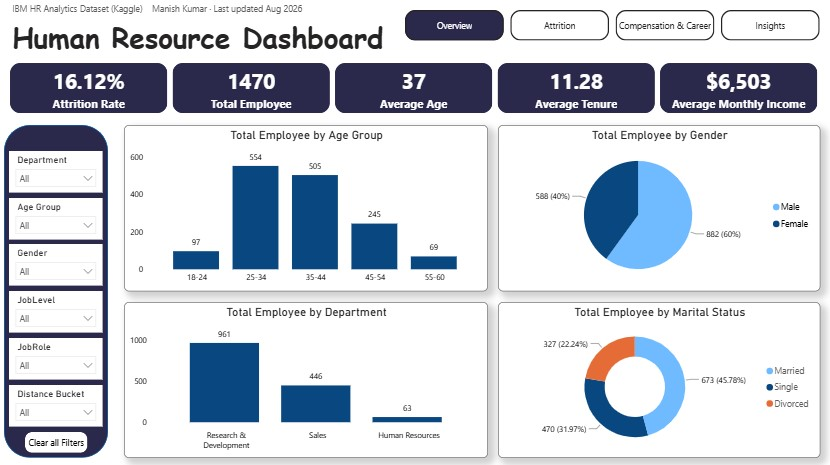

What the dashboard file says about the page in this screenshot:
{"tool":"powerbi","page":{"name":"Overview","canvas":[1280,720],"ordinal":0},"visuals":[{"type":"textbox","box":[16,0,592,96],"z":0},{"type":"cardVisual","fields":{"Data":["HR_Analytics.Attrition Rate","HR_Analytics.Total Employee","Avg(HR_Analytics.Age)","Avg(HR_Analytics.TotalWorkingYears)","Avg(HR_Analytics.MonthlyIncome)"]},"box":[0,80,1280,112],"z":1000},{"type":"clusteredColumnChart","fields":{"Category":["HR_Analytics.Age Group"],"Y":["HR_Analytics.Total Employee"]},"box":[192,192,560,256],"z":2000},{"type":"clusteredColumnChart","fields":{"Category":["HR_Analytics.Department"],"Y":["HR_Analytics.Total Employee"]},"box":[192,464,560,240],"z":3000},{"type":"pieChart","fields":{"Category":["HR_Analytics.Gender"],"Y":["HR_Analytics.Total Employee"]},"box":[768,192,496,256],"z":4000},{"type":"donutChart","fields":{"Category":["HR_Analytics.MaritalStatus"],"Y":["HR_Analytics.Total Employee"]},"box":[768,464,496,240],"z":5000},{"type":"shape","box":[8,192,160,512],"z":6000},{"type":"slicer","fields":{"Values":["HR_Analytics.Department"]},"box":[16,232,144,64],"z":7000},{"type":"slicer","fields":{"Values":["HR_Analytics.Age Group"]},"box":[16,304,144,64],"z":8000},{"type":"slicer","fields":{"Values":["HR_Analytics.Gender"]},"box":[16,376,144,64],"z":9000},{"type":"slicer","fields":{"Values":["HR_Analytics.JobLevel"]},"box":[16,448,144,64],"z":10000},{"type":"slicer","fields":{"Values":["HR_Analytics.JobRole"]},"box":[16,520,144,64],"z":11000},{"type":"slicer","fields":{"Values":["HR_Analytics.Distance Bucket"]},"box":[16,592,144,64],"z":12000},{"type":"actionButton","box":[40,664,96,32],"z":13000},{"type":"pageNavigator","box":[624,16,640,48],"z":14000}]}

Visuals, with their boxes in screenshot pixels (x1, y1, x2, y2), scaled from the page's 1280x720 canvas onto the 830x465 screenshot:
textbox: [x1=10, y1=0, x2=394, y2=62]
cardVisual - HR_Analytics.Attrition Rate x HR_Analytics.Total Employee: [x1=0, y1=52, x2=829, y2=124]
clusteredColumnChart - HR_Analytics.Age Group x HR_Analytics.Total Employee: [x1=124, y1=124, x2=488, y2=289]
clusteredColumnChart - HR_Analytics.Department x HR_Analytics.Total Employee: [x1=124, y1=300, x2=488, y2=455]
pieChart - HR_Analytics.Gender x HR_Analytics.Total Employee: [x1=498, y1=124, x2=820, y2=289]
donutChart - HR_Analytics.MaritalStatus x HR_Analytics.Total Employee: [x1=498, y1=300, x2=820, y2=455]
shape: [x1=5, y1=124, x2=109, y2=455]
slicer - HR_Analytics.Department: [x1=10, y1=150, x2=104, y2=191]
slicer - HR_Analytics.Age Group: [x1=10, y1=196, x2=104, y2=238]
slicer - HR_Analytics.Gender: [x1=10, y1=243, x2=104, y2=284]
slicer - HR_Analytics.JobLevel: [x1=10, y1=289, x2=104, y2=331]
slicer - HR_Analytics.JobRole: [x1=10, y1=336, x2=104, y2=377]
slicer - HR_Analytics.Distance Bucket: [x1=10, y1=382, x2=104, y2=424]
actionButton: [x1=26, y1=429, x2=88, y2=450]
pageNavigator: [x1=405, y1=10, x2=820, y2=41]
